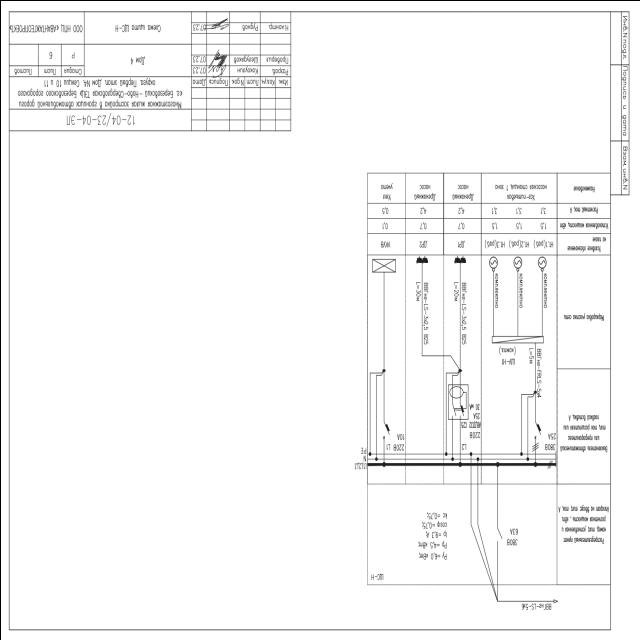-: (459, 402, 481, 439), (392, 432, 404, 452), (543, 432, 555, 452), (506, 526, 518, 546), (369, 570, 384, 582)
QF: (530, 419, 542, 452), (381, 420, 390, 440)
QFD: (447, 384, 467, 419)
QS: (494, 523, 503, 543)
